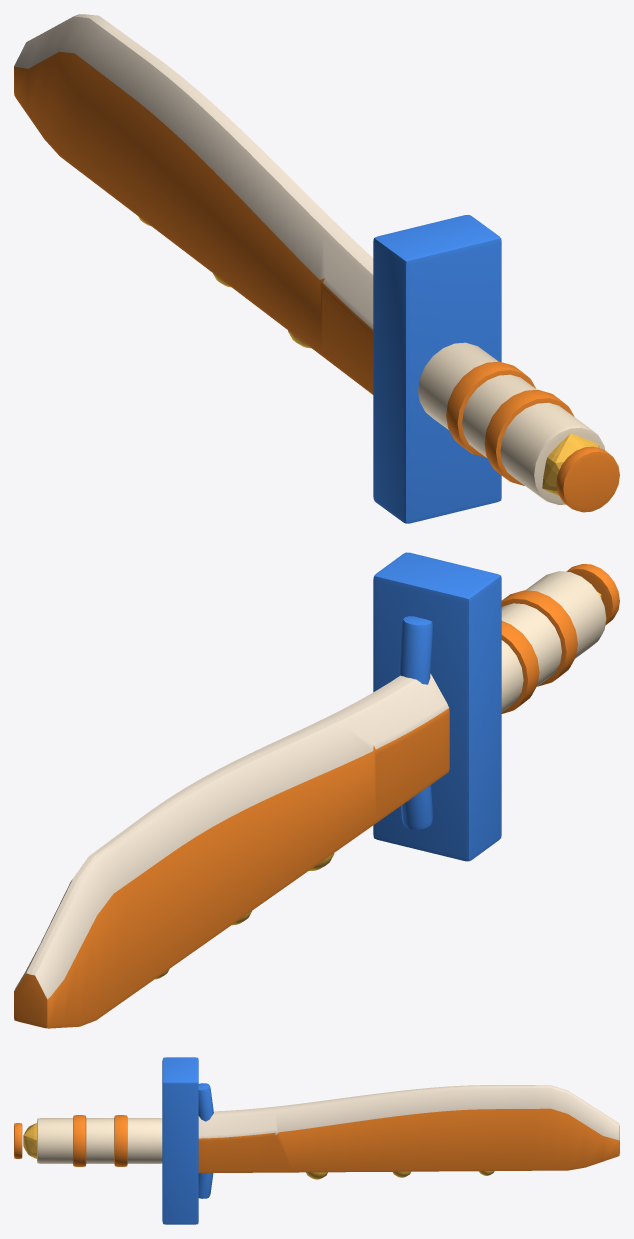
File: Sword_SlagFalchion.glb
3 views of the same model, one above another, from view 1: azimuth 30°, elevation 25°; view 2: azimuth 150°, elevation 25°; view 3: azimuth 270°, elevation 25° (orthographic). The views are drawn at different scales.
Parts seen in each view (by area): view 1: Sword_SlagFalchion; view 2: Sword_SlagFalchion; view 3: Sword_SlagFalchion.
Part boxes in pixels (bbox=[...]): Sword_SlagFalchion: bbox=[14, 14, 619, 523]; Sword_SlagFalchion: bbox=[14, 552, 619, 1028]; Sword_SlagFalchion: bbox=[14, 1057, 619, 1224].
Bounding box in the file's own units: 0.1 × 0.26 × 1.
1 material, 1 textured.
